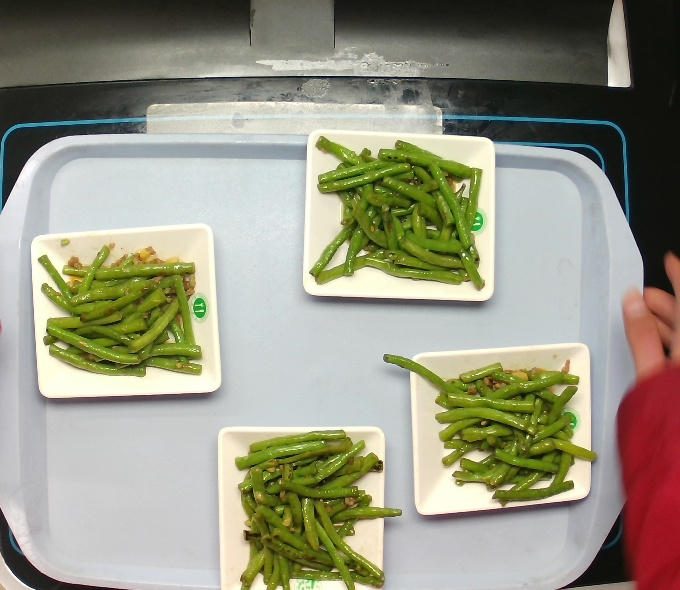wcq-RouMoJiangDou: (306, 127, 488, 311), (400, 355, 589, 513), (33, 232, 207, 383), (235, 431, 396, 589)
